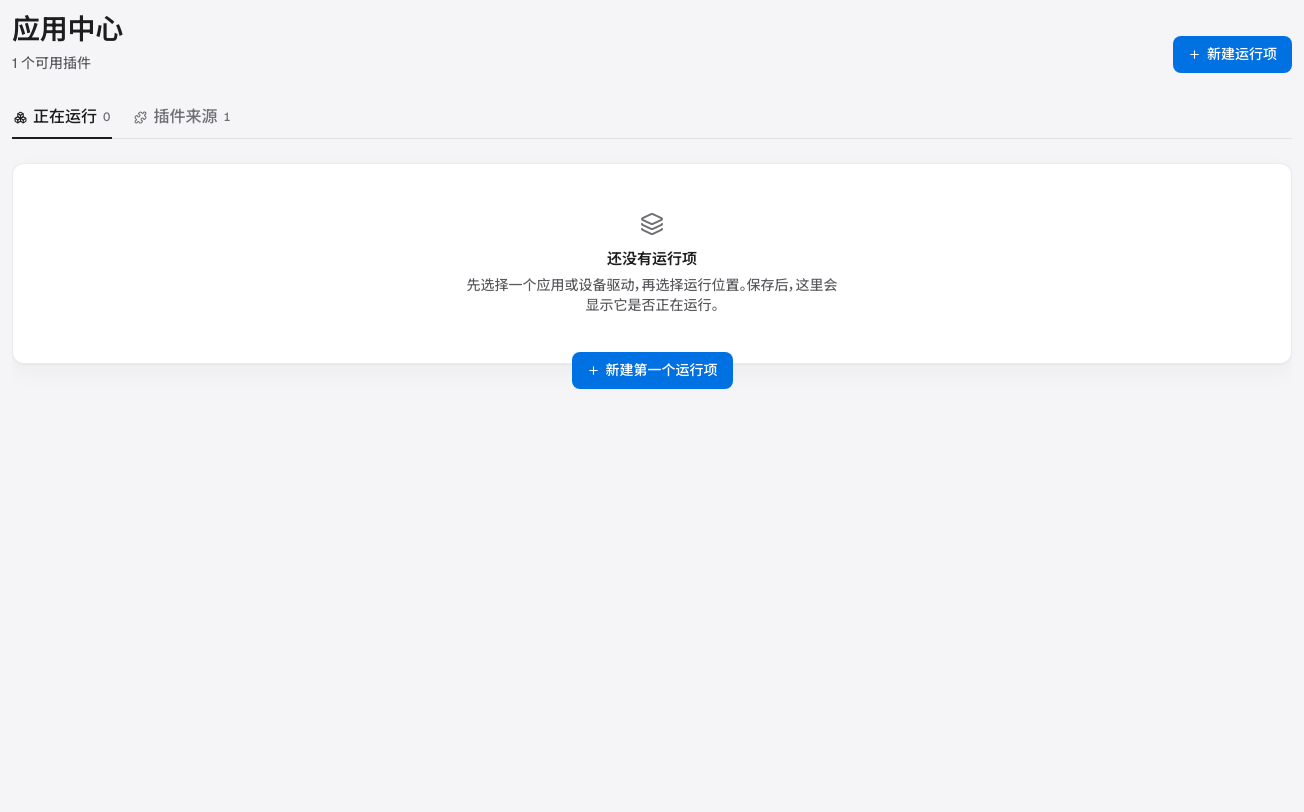
插件面分区 › 两个分区都在，运行项优先且目录按需呈现插件声明事实
Click the tab "插件来源 1" at coordinates (183, 122), box [132, 105, 233, 139]
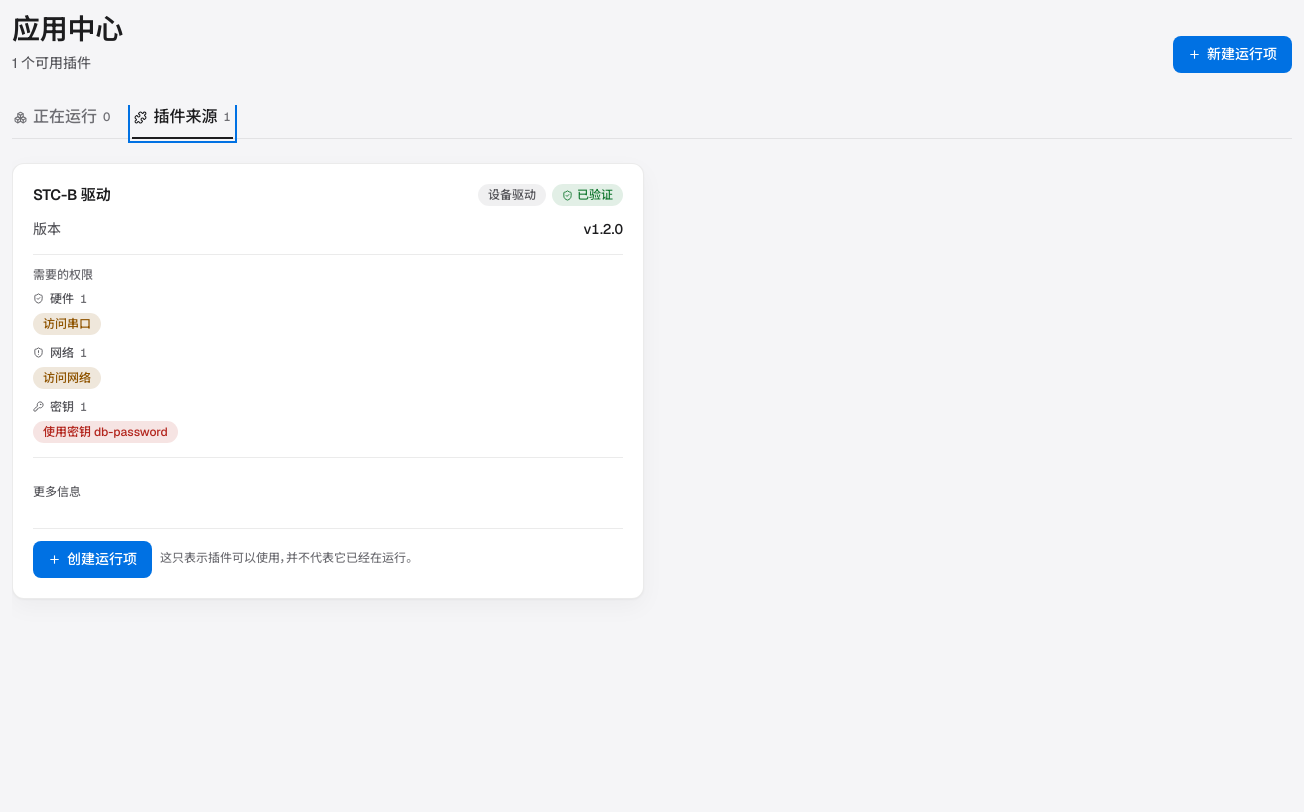
Check: the text "v1.2.0" is shown, box [584, 218, 623, 240]
Check: the text "已验证" is shown, box [552, 184, 623, 206]
Check: the text "访问串口" is shown, box [43, 314, 91, 332]
